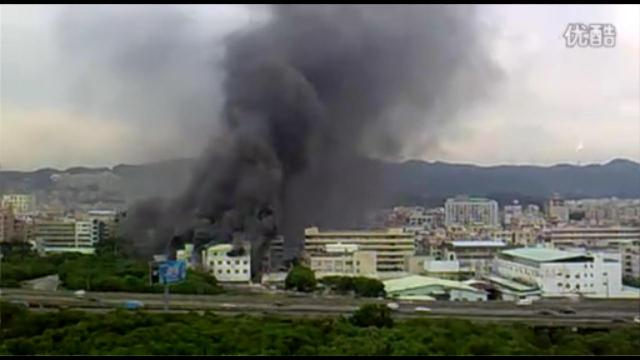smoke: (217, 34, 498, 140), (225, 142, 377, 188), (260, 3, 490, 33), (124, 201, 228, 251), (226, 189, 304, 253), (309, 189, 387, 227), (184, 138, 222, 200)
